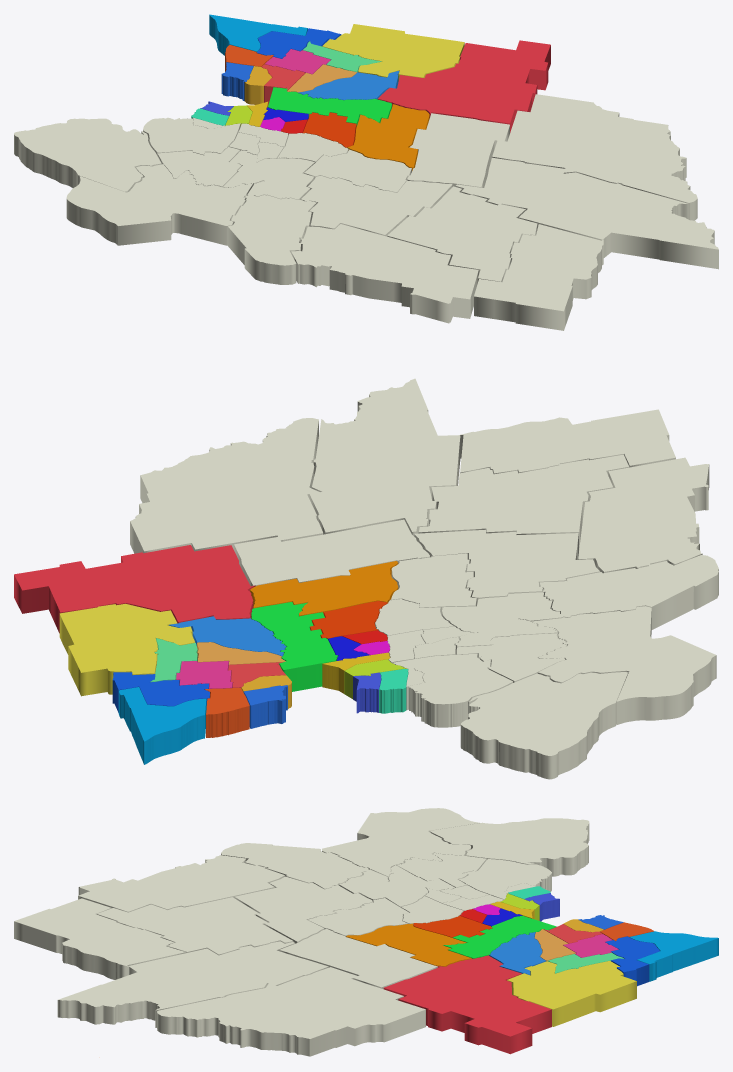
File: cracked.glb
3 views of the same model, one above another, from view 1: azimuth 30°, elevation 25°; view 2: azimuth 150°, elevation 25°; view 3: azimuth 270°, elevation 25° (orthographic). The views are drawn at different scales.
Visible parts, largest first — view 1: path194, path208, path110, path442, path132, path202, path444, path130, path446, path454, path172, path204 (+19 smaller); view 2: path208, path194, path202, path444, path442, path110, path130, path132, path446, path204, path454, path172 (+23 smaller); view 3: path208, path194, path202, path132, path110, path130, path444, path442, path204, path454, path172, path446 (+19 smaller).
Boxes of the visible parts, left/top/right/bottom form: path194: left=455, top=157, right=718, bottom=269; path208: left=492, top=94, right=697, bottom=220; path110: left=291, top=224, right=478, bottom=323; path442: left=66, top=164, right=253, bottom=245; path132: left=474, top=224, right=603, bottom=330; path202: left=377, top=40, right=550, bottom=132; path444: left=14, top=118, right=161, bottom=192; path130: left=387, top=186, right=537, bottom=281; path446: left=227, top=181, right=316, bottom=284; path454: left=300, top=175, right=452, bottom=236; path172: left=407, top=113, right=509, bottom=187; path204: left=322, top=24, right=464, bottom=81; path208: left=130, top=418, right=323, bottom=553; path194: left=309, top=378, right=460, bottom=536; path202: left=14, top=545, right=255, bottom=633; path444: left=460, top=672, right=628, bottom=779; path442: left=531, top=606, right=716, bottom=724; path110: left=578, top=457, right=709, bottom=573; path130: left=418, top=454, right=629, bottom=550; path132: left=459, top=409, right=675, bottom=474; path446: left=519, top=555, right=718, bottom=629; path204: left=59, top=603, right=195, bottom=696; path454: left=414, top=529, right=600, bottom=604; path172: left=234, top=519, right=429, bottom=586; path208: left=157, top=967, right=425, bottom=1056; path194: left=57, top=941, right=328, bottom=1027; path202: left=383, top=955, right=551, bottom=1054; path132: left=14, top=898, right=185, bottom=979; path110: left=78, top=855, right=284, bottom=912; path130: left=96, top=897, right=293, bottom=955; path444: left=430, top=818, right=589, bottom=876; path442: left=322, top=808, right=479, bottom=877; path204: left=507, top=961, right=636, bottom=1026; path454: left=234, top=876, right=372, bottom=943; path172: left=279, top=929, right=437, bottom=989; path446: left=221, top=843, right=388, bottom=889.
Size of the model in its own units: 7 by 1.13 by 9.03.
